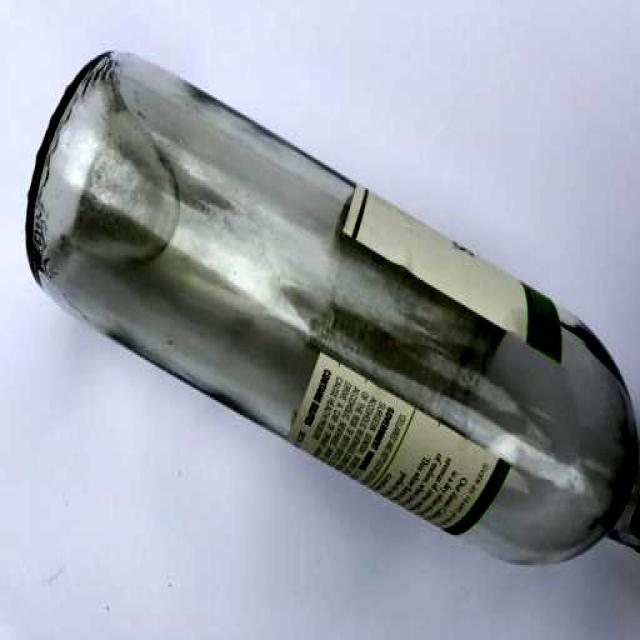Glass: (12, 28, 640, 599)
